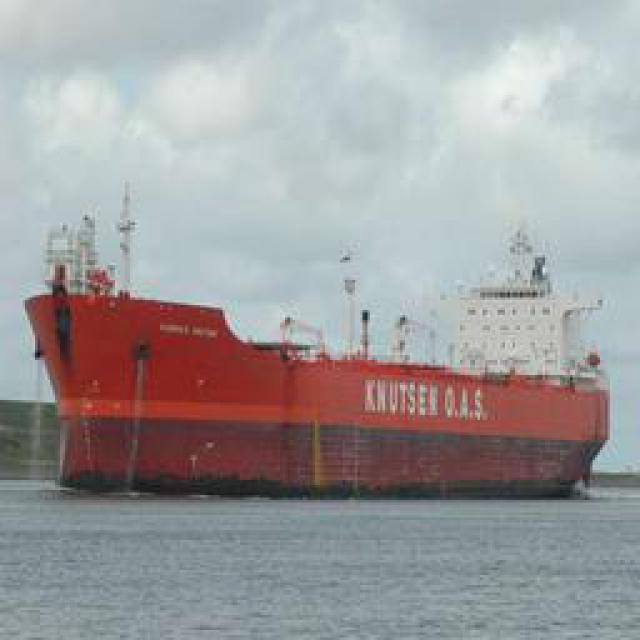Ship: (31, 212, 616, 492)
